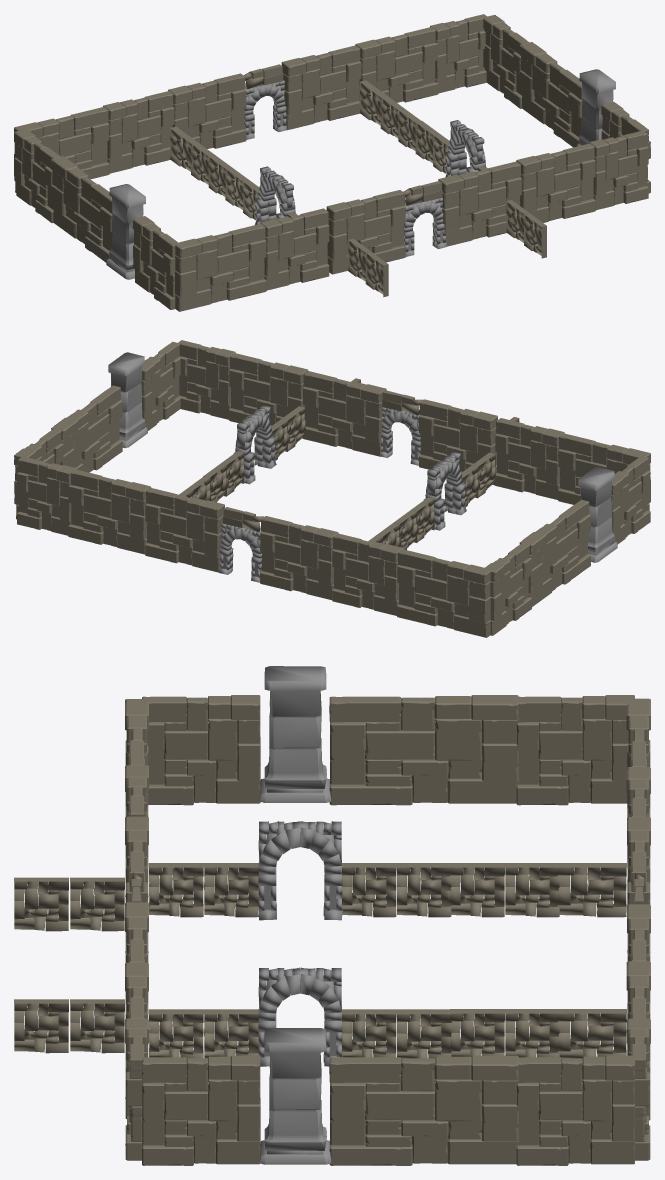
Rendered from icoDun.fbx.
The picture shows the model from 3 angles, top to bottom: view 1: azimuth 30°, elevation 25°; view 2: azimuth 150°, elevation 25°; view 3: azimuth 270°, elevation 25°; orthographic projection. The views are drawn at different scales.
Parts seen in each view (by area): view 1: Wall_Modular.079, Wall_Modular.076, Wall_Modular.071, Wall_Modular.070, Wall_Modular.073, Wall_Modular.064, arch.003, Wall_Modular.015, arch.004, Wall_Modular.013; view 2: Wall_Modular.079, Wall_Modular.076, Wall_Modular.073, Wall_Modular.071, Wall_Modular.070, arch.003, arch.004, Wall_Modular.015, Wall_Modular.013; view 3: Wall_Modular.079, Wall_Modular.076, Wall_Modular.073, arch.003, arch.004, Wall_Modular.064, Wall_Modular.015, Wall_Modular.013, Wall_Modular.070, Wall_Modular.071.
Part boxes in pixels (left/top/right/bottom): Wall_Modular.079: left=14, top=91, right=329, bottom=311; Wall_Modular.076: left=355, top=14, right=582, bottom=147; Wall_Modular.071: left=168, top=45, right=361, bottom=148; Wall_Modular.070: left=326, top=161, right=521, bottom=274; Wall_Modular.073: left=516, top=69, right=650, bottom=222; Wall_Modular.064: left=348, top=200, right=546, bottom=297; arch.003: left=225, top=166, right=327, bottom=259; Wall_Modular.015: left=359, top=80, right=438, bottom=166; arch.004: left=433, top=120, right=487, bottom=177; Wall_Modular.013: left=170, top=126, right=231, bottom=200; Wall_Modular.079: left=332, top=418, right=650, bottom=637; Wall_Modular.076: left=14, top=385, right=151, bottom=554; Wall_Modular.073: left=108, top=340, right=308, bottom=448; Wall_Modular.071: left=145, top=488, right=338, bottom=599; Wall_Modular.070: left=303, top=371, right=497, bottom=473; arch.003: left=394, top=451, right=495, bottom=549; arch.004: left=221, top=405, right=305, bottom=496; Wall_Modular.015: left=178, top=463, right=226, bottom=502; Wall_Modular.013: left=368, top=522, right=400, bottom=546; Wall_Modular.079: left=125, top=666, right=650, bottom=904; Wall_Modular.076: left=329, top=961, right=650, bottom=1165; Wall_Modular.073: left=125, top=962, right=331, bottom=1165; arch.003: left=148, top=821, right=451, bottom=920; arch.004: left=148, top=967, right=396, bottom=1066; Wall_Modular.064: left=14, top=877, right=124, bottom=1053; Wall_Modular.015: left=396, top=1009, right=626, bottom=1058; Wall_Modular.013: left=450, top=863, right=626, bottom=917; Wall_Modular.070: left=125, top=816, right=148, bottom=1003; Wall_Modular.071: left=627, top=817, right=650, bottom=1002.
Bounding box in the file's own units: 6526 × 1021 × 4626.
